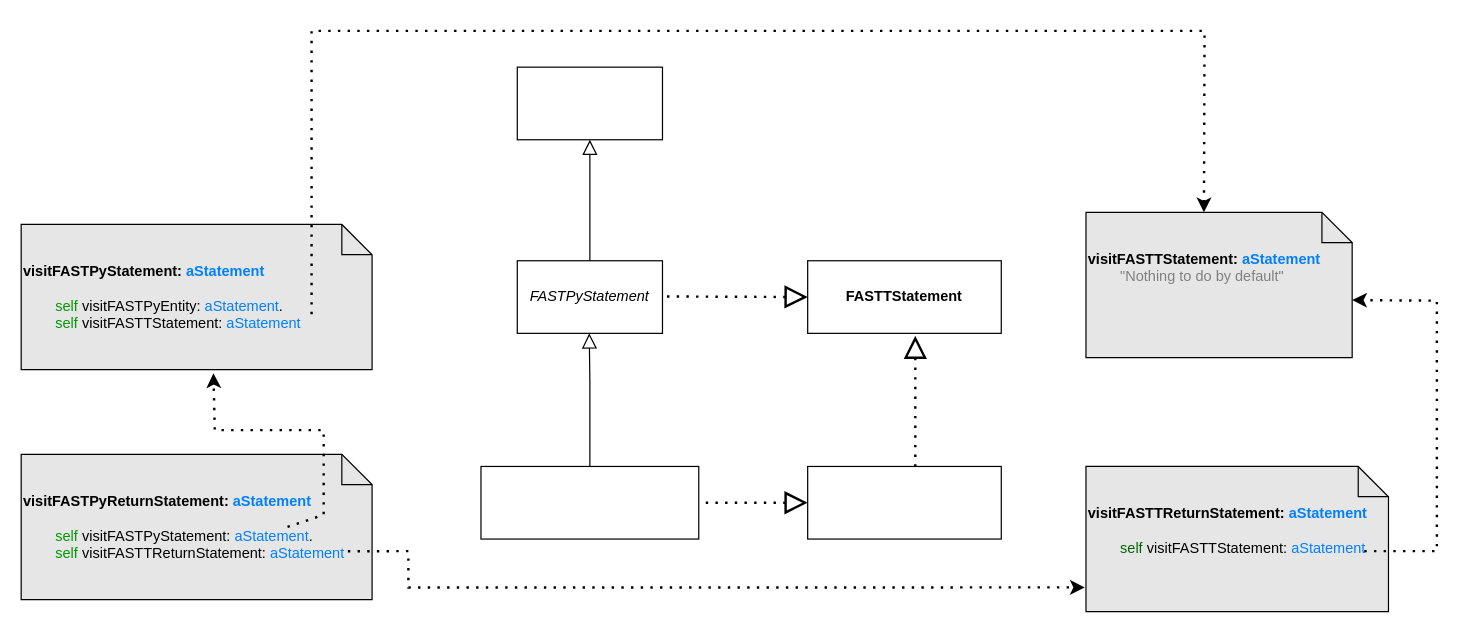
The diagram is 1469 pixels wide and 633 high, and some of its shapes have lost their labels. The shapes that lost their labels are listed below. From the top down, each one's centre as x and y in pixels, then its label:
At [589,103]: "FASTPyEntity".
At [589,502]: "FASTPyReturnStatement".
At [903,502]: "FASTTReturnStatement".
